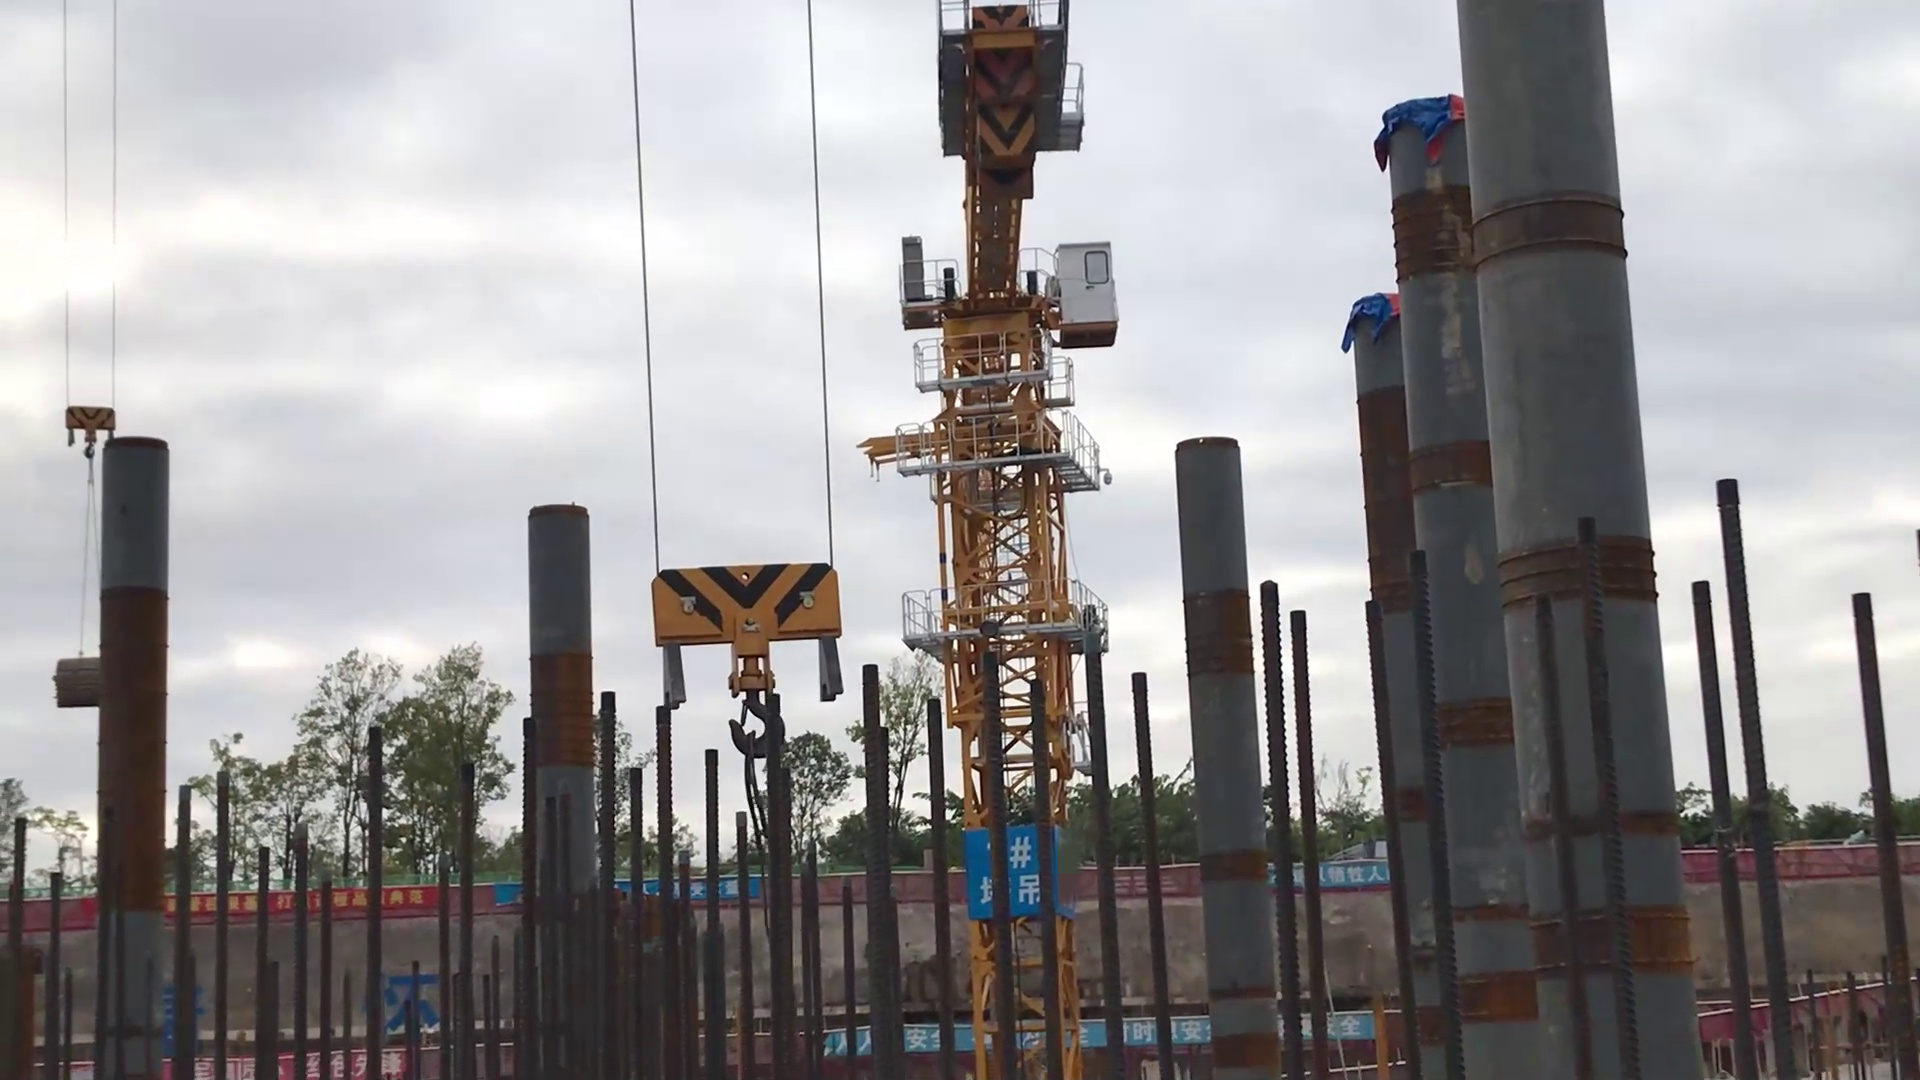hook: (647, 556, 849, 764)
